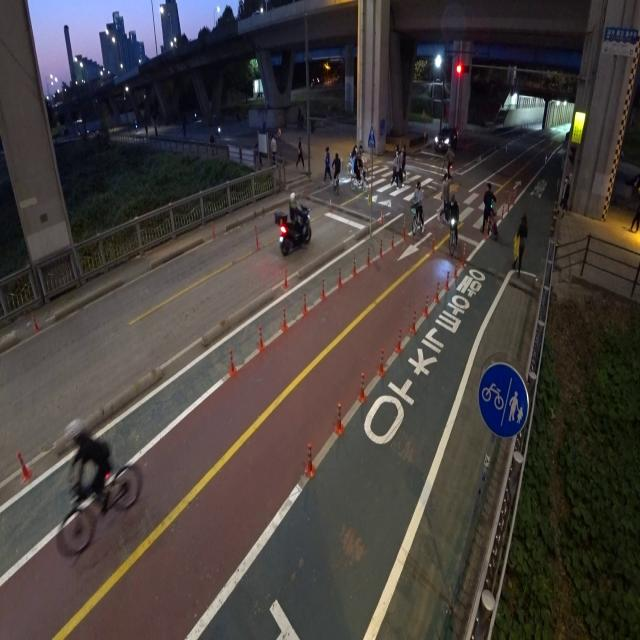Car: (433, 117, 461, 157)
Motorcycle: (274, 190, 312, 256)
